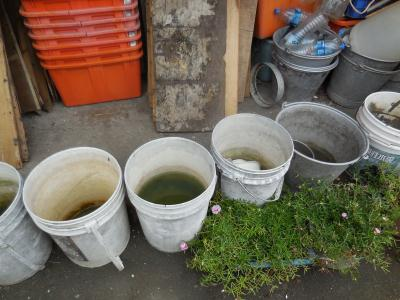bottle: (281, 14, 328, 48), (289, 39, 348, 57), (271, 5, 314, 26)
box: (38, 50, 145, 106)
bucket: (20, 144, 138, 272), (122, 135, 223, 256), (273, 98, 373, 193), (210, 111, 298, 210), (269, 23, 340, 104), (327, 32, 400, 106), (344, 89, 400, 185)
